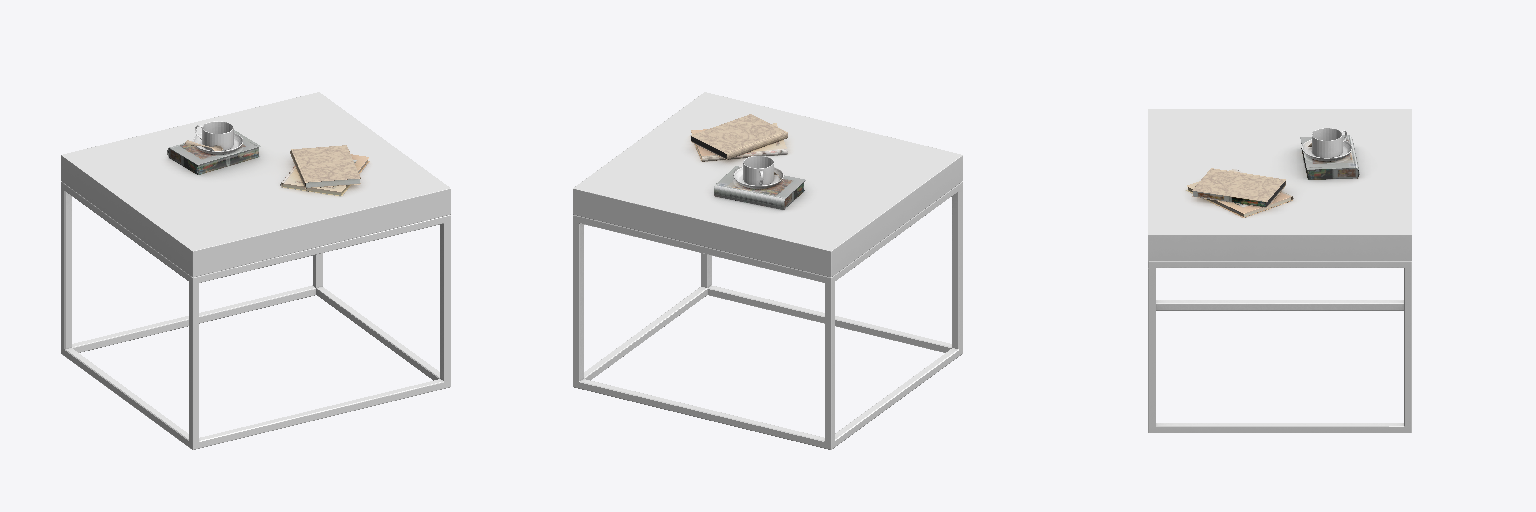
3 renders of one model, left to right at view 1: azimuth 30°, elevation 25°; view 2: azimuth 150°, elevation 25°; view 3: azimuth 270°, elevation 25°, orthographic.
Visible parts, largest first — view 1: solid_002, solid_005, solid_001, solid_004, solid_003; view 2: solid_002, solid_005, solid_001, solid_004, solid_003; view 3: solid_002, solid_005, solid_004, solid_001, solid_003.
Part boxes in pixels (bbox=[...]): solid_002: bbox=[61, 92, 450, 449]; solid_005: bbox=[185, 140, 360, 188]; solid_001: bbox=[167, 130, 260, 174]; solid_004: bbox=[193, 121, 242, 154]; solid_003: bbox=[280, 154, 369, 195]; solid_002: bbox=[573, 92, 962, 449]; solid_005: bbox=[691, 114, 787, 182]; solid_001: bbox=[714, 166, 805, 209]; solid_004: bbox=[733, 156, 783, 188]; solid_003: bbox=[691, 123, 787, 161]; solid_002: bbox=[1148, 109, 1411, 432]; solid_005: bbox=[1192, 143, 1311, 207]; solid_004: bbox=[1302, 128, 1351, 161]; solid_001: bbox=[1300, 135, 1359, 179]; solid_003: bbox=[1186, 169, 1293, 217].
Size of the model in its own units: 1.48 by 1.26 by 1.31.
Materials: 1 (1 with a texture image).